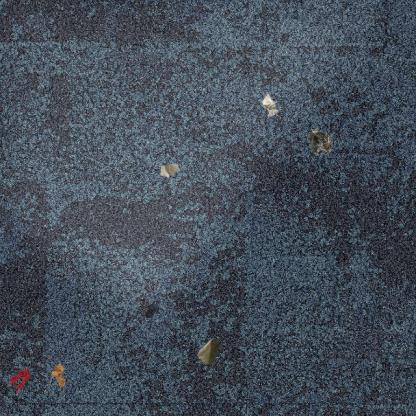dirty: (308, 127, 334, 158), (196, 336, 220, 366), (259, 91, 280, 119), (49, 361, 67, 388), (159, 162, 180, 180)
liquid: (9, 368, 30, 393), (145, 298, 162, 320)
